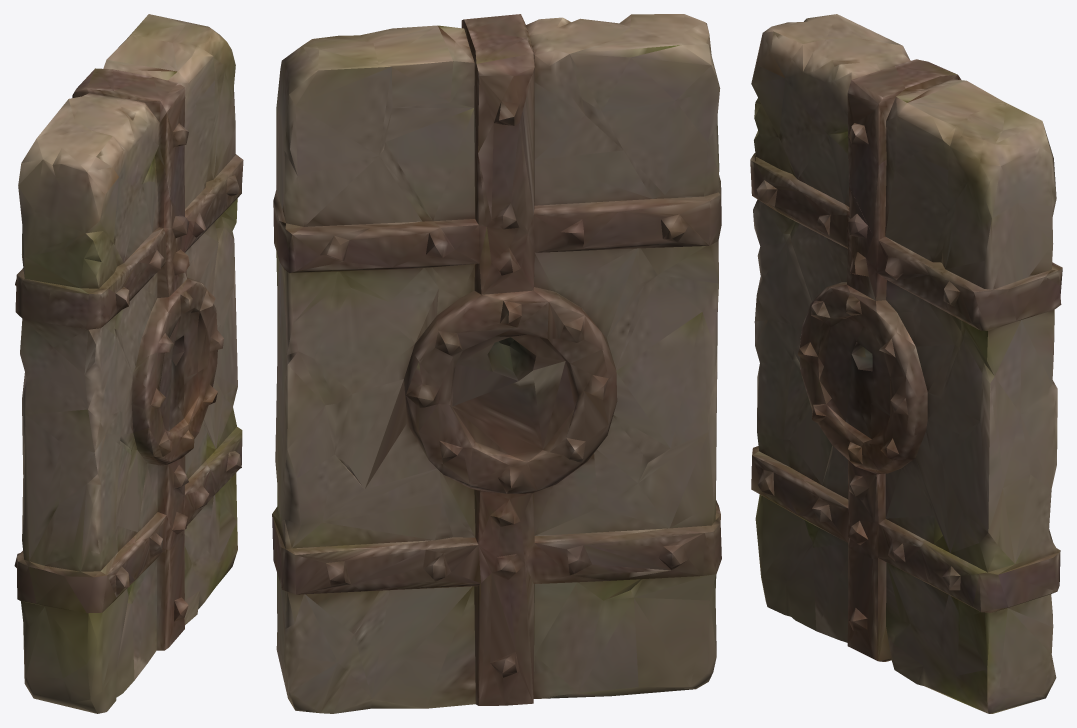
Rendered from puerta_llave_hoja.glb.
3 views of the same model, side by side, from view 1: azimuth 30°, elevation 25°; view 2: azimuth 150°, elevation 25°; view 3: azimuth 270°, elevation 25° (orthographic). The views are drawn at different scales.
Parts seen in each view (by area): view 1: puerta_llave_hoja_malla; view 2: puerta_llave_hoja_malla; view 3: puerta_llave_hoja_malla.
Boxes of the visible parts, bbox=[...] form: puerta_llave_hoja_malla: bbox=[14, 14, 243, 713]; puerta_llave_hoja_malla: bbox=[272, 14, 721, 713]; puerta_llave_hoja_malla: bbox=[750, 14, 1062, 713].
Size of the model in its own units: 0.1987 by 0.3526 by 0.1734.
Materials: 1 (1 with a texture image).
